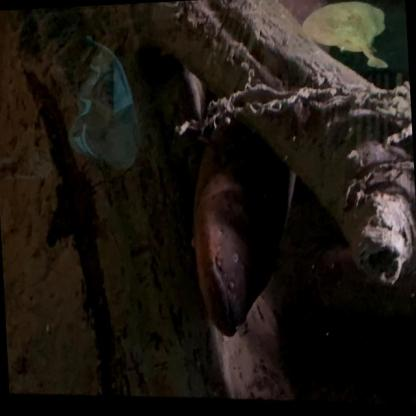fish: (181, 101, 307, 341)
